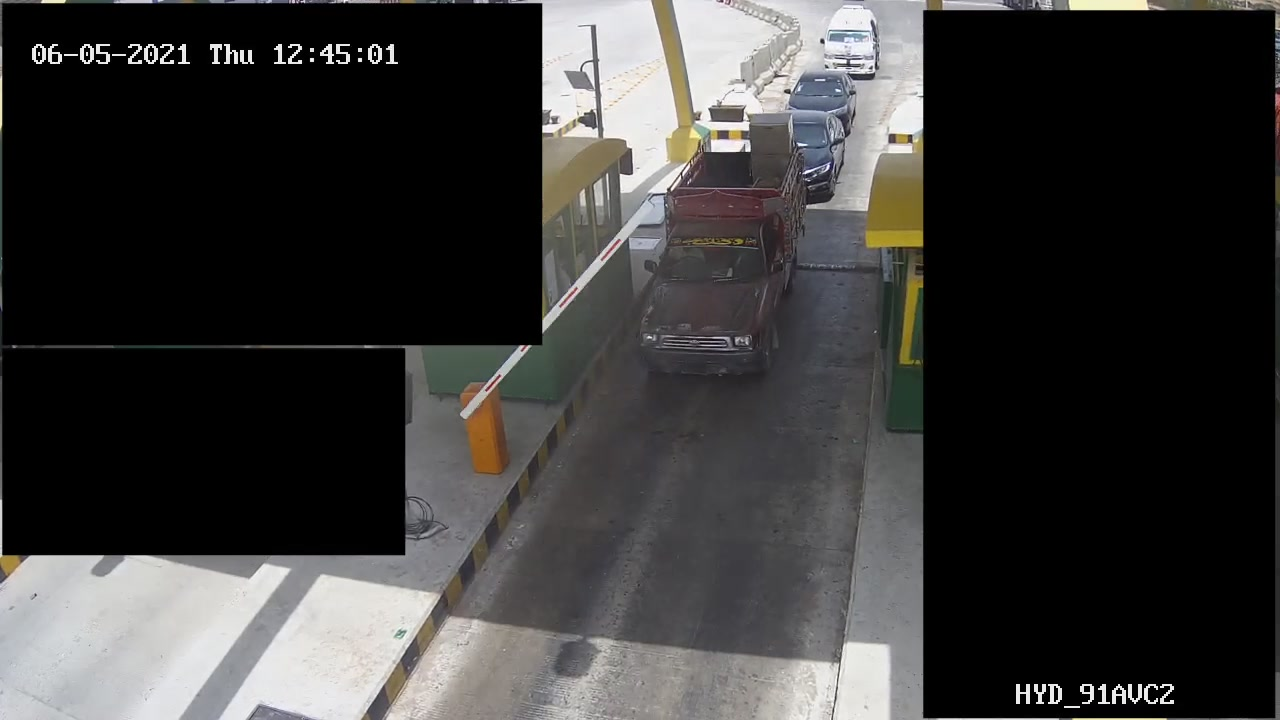F1: (637, 112, 807, 387)
